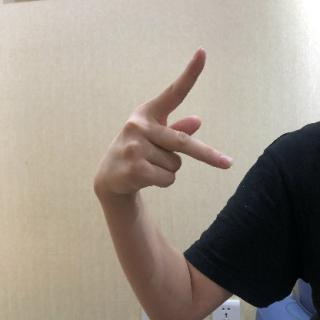DHAA: (83, 43, 240, 214)
